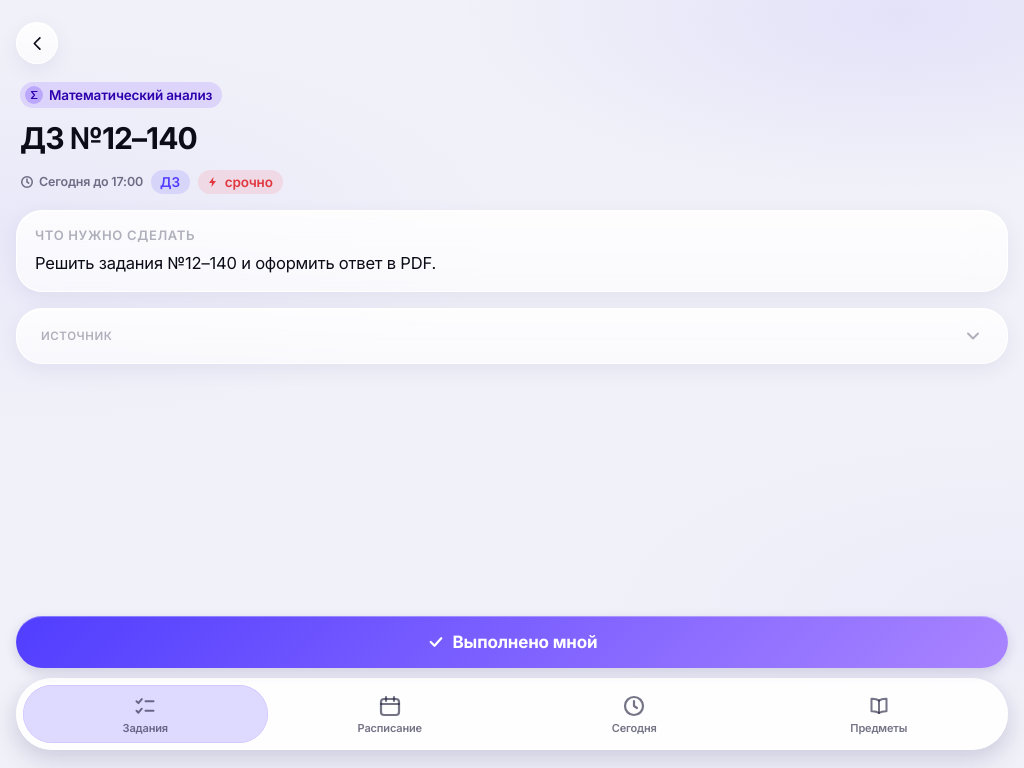
Test: homework detail and source › collapses and expands the sources section with the arrow
Click the button with aria-label "Источник:" at (77, 336), box x1=35 y1=325 x2=989 y2=347
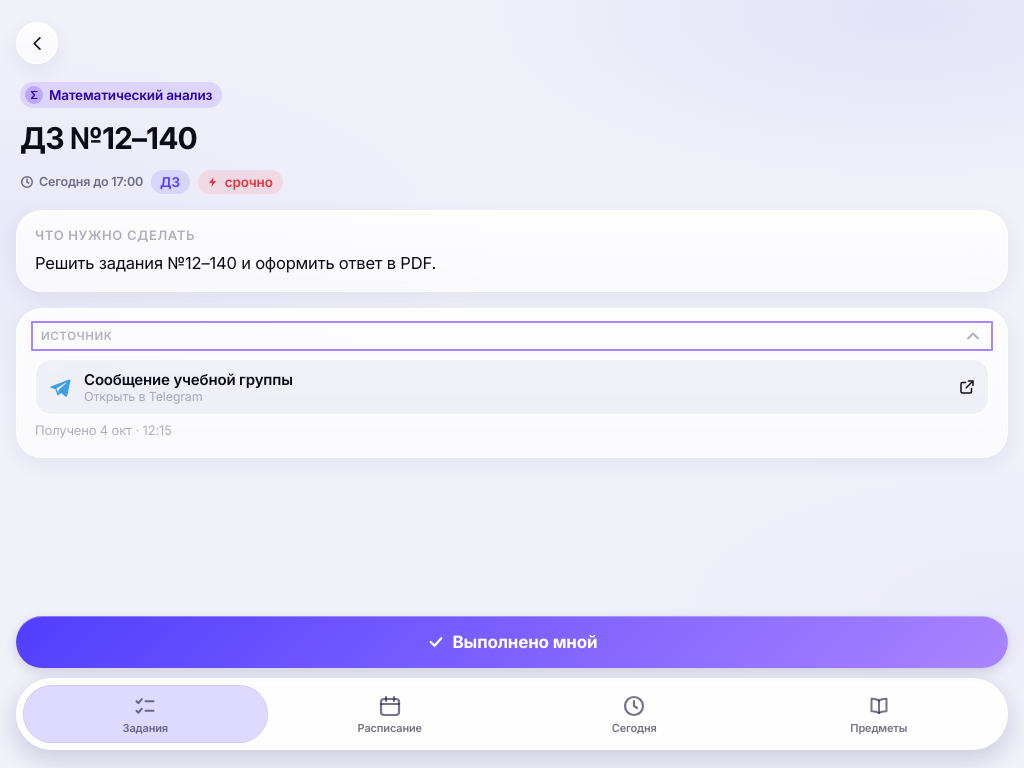
Result: the button with aria-label "Источник:" is expanded
Click the button with aria-label "Источник:" at (77, 336), box x1=35 y1=325 x2=989 y2=347
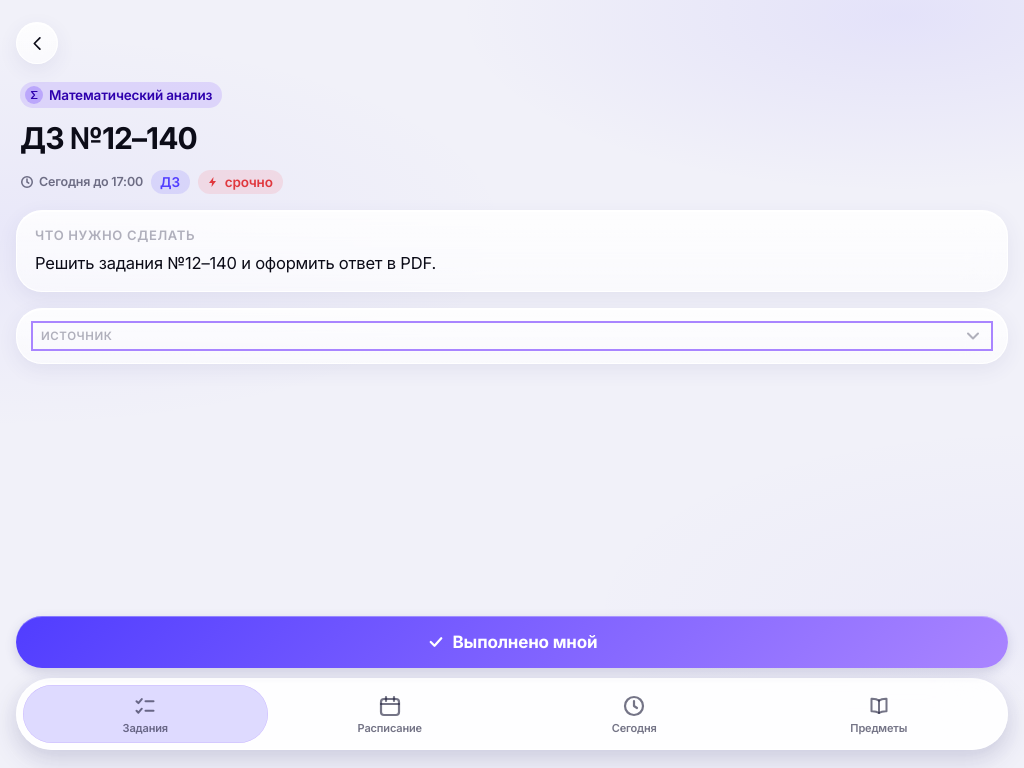
Result: the button with aria-label "Источник:" is collapsed at x1=35 y1=325 x2=989 y2=347
